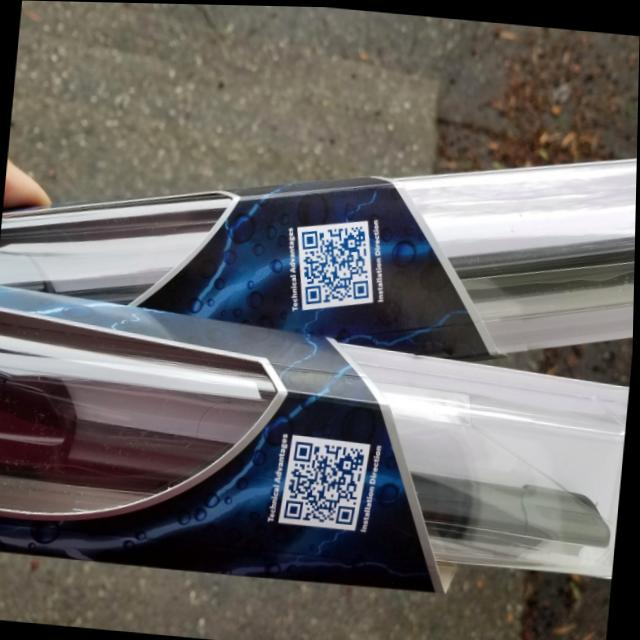QR_CODE: (284, 204, 387, 319), (279, 421, 378, 538)
